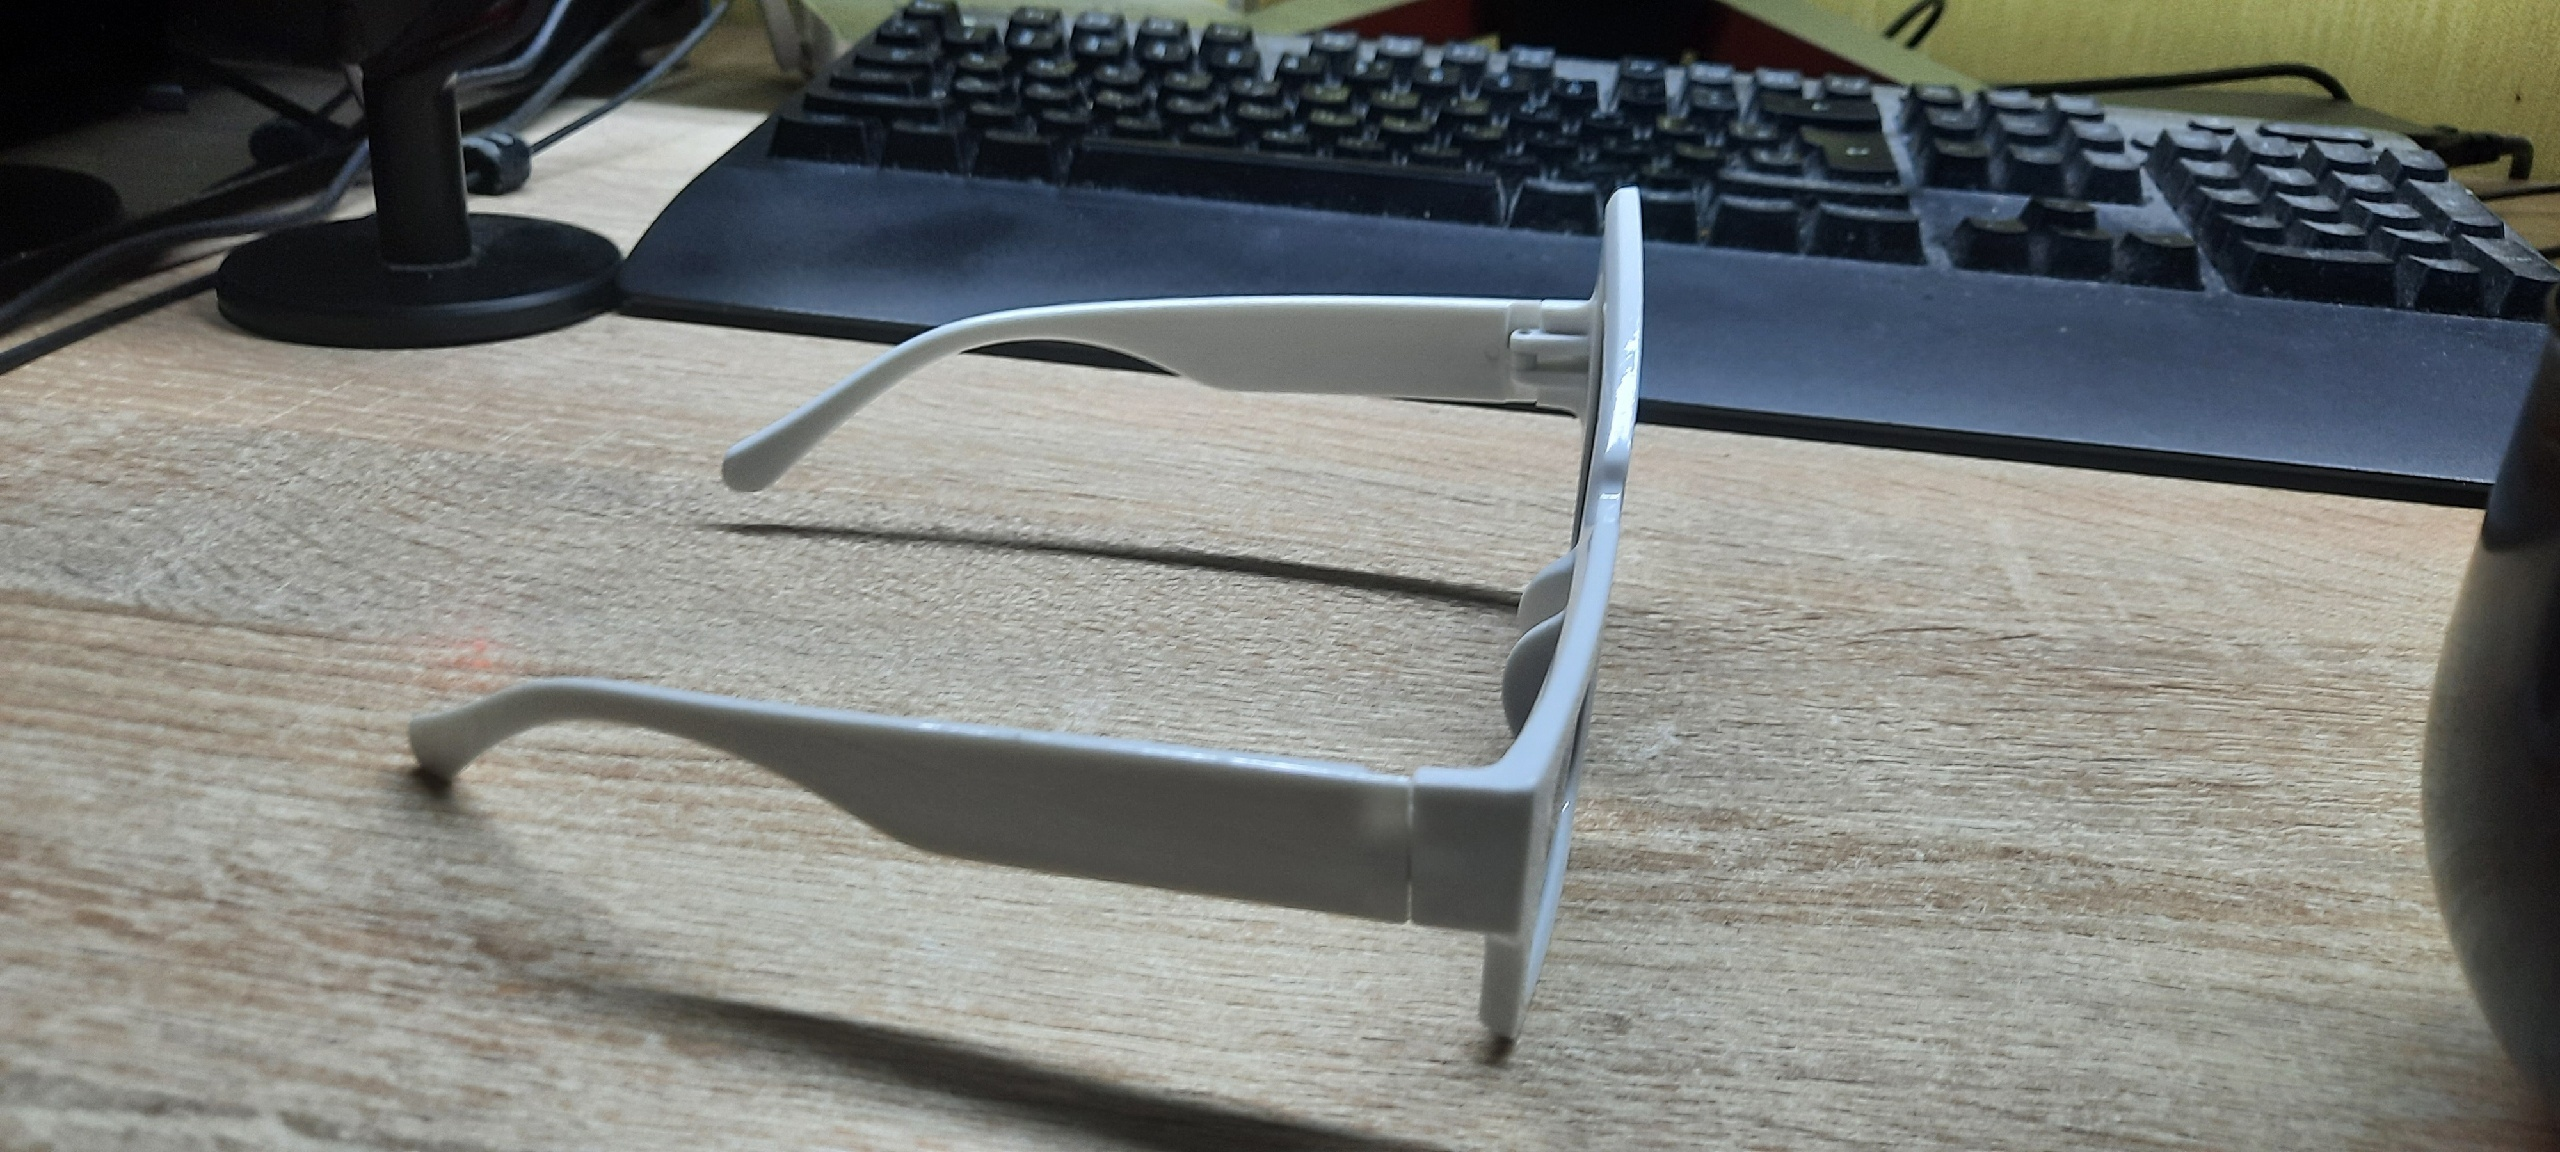glasses: (411, 193, 1641, 1035)
